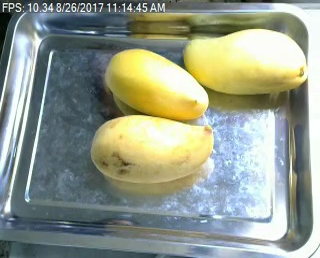Mango: (183, 29, 320, 92), (91, 113, 213, 183), (105, 47, 208, 121)
